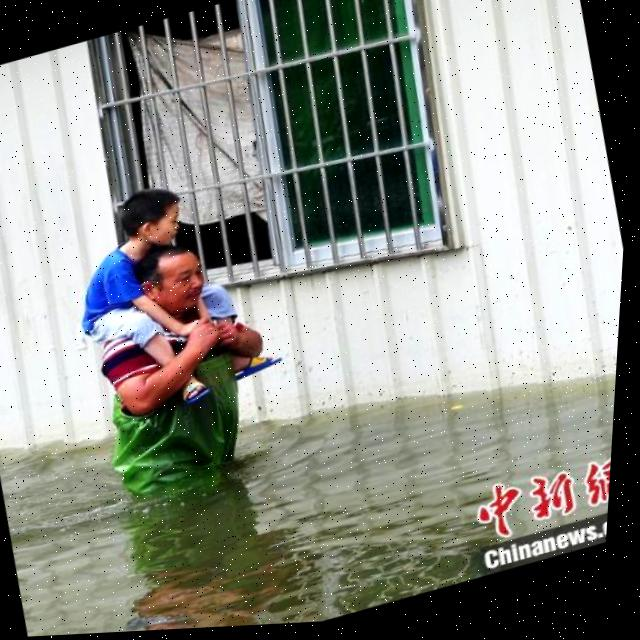civilian: (42, 147, 306, 445), (61, 215, 309, 526)
